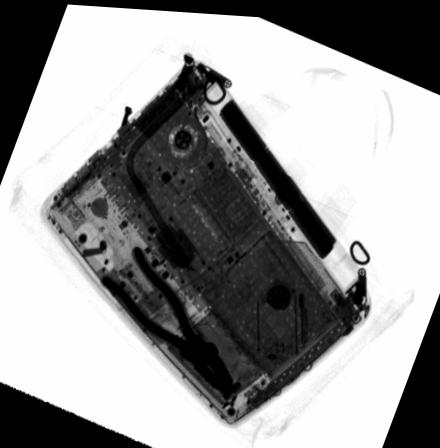Pliers: (100, 243, 235, 399)
